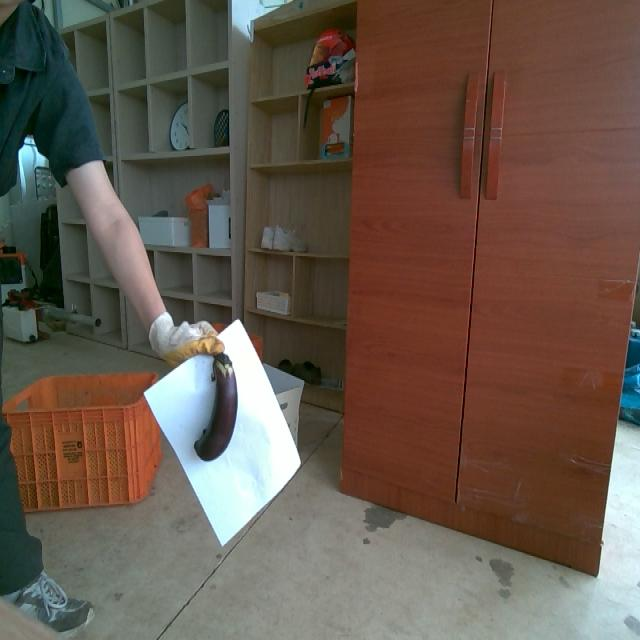Egg plant: (195, 353, 238, 460)
